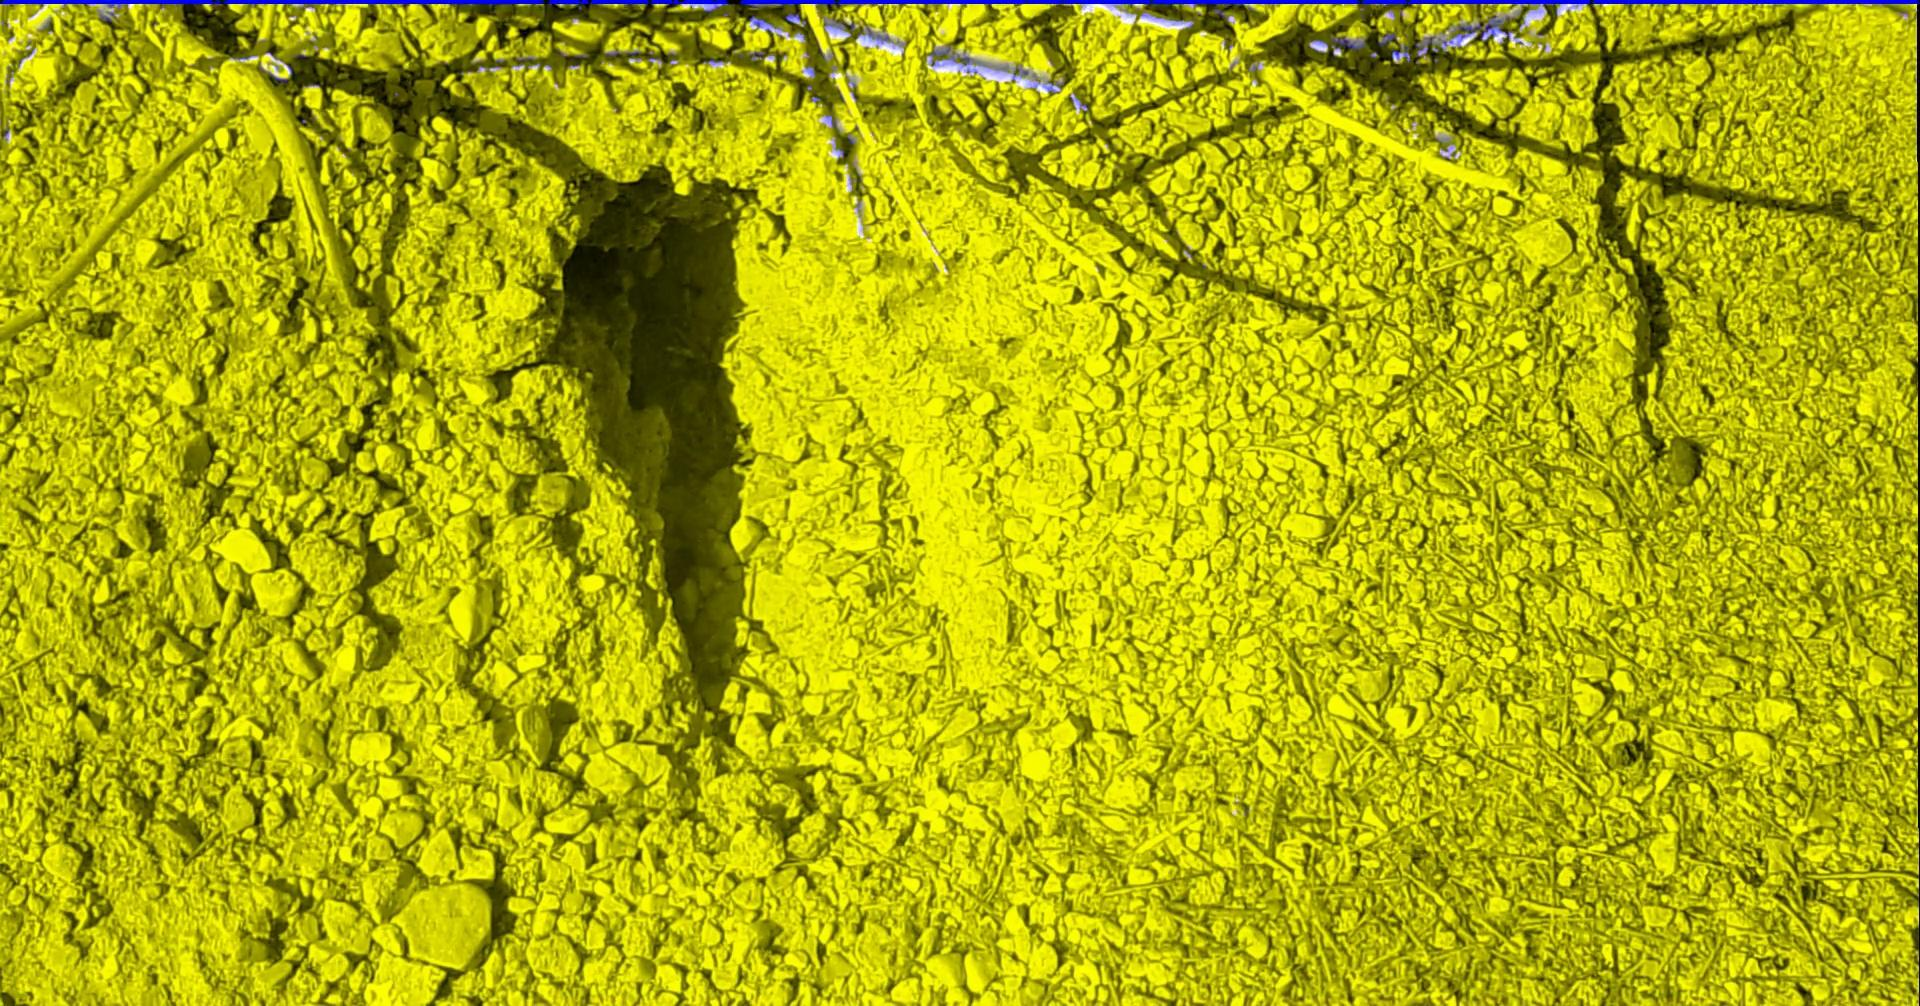ant: (1453, 15, 1510, 39), (1312, 36, 1365, 55), (1390, 44, 1410, 62), (1377, 32, 1396, 46)
